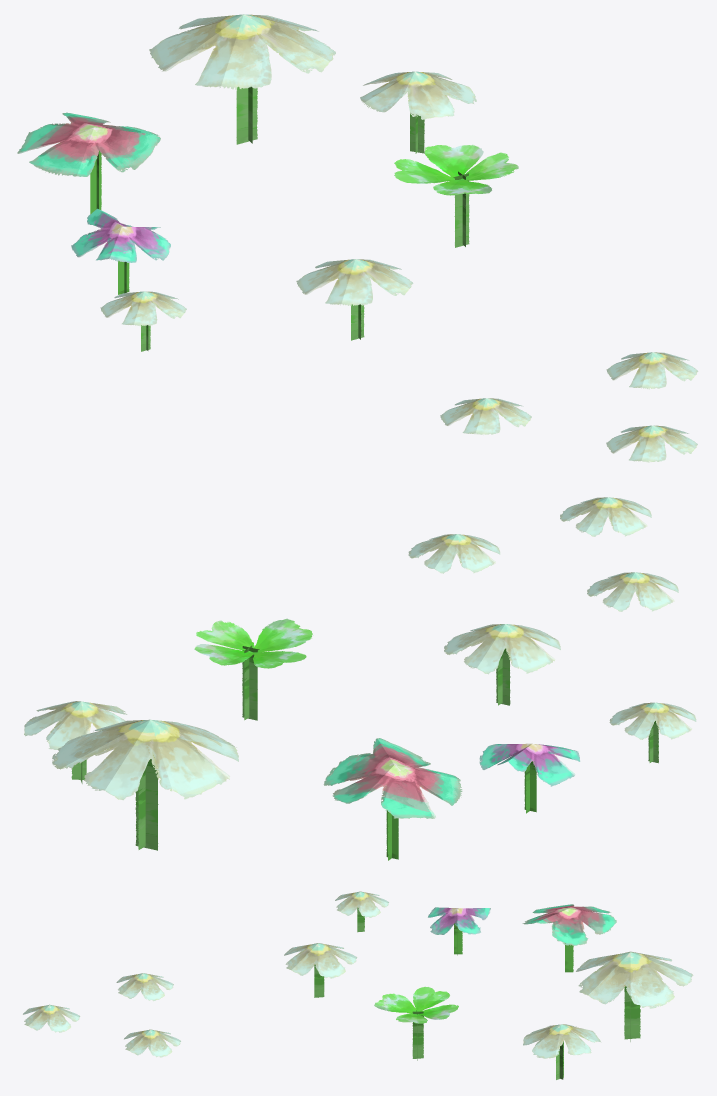
Rendered from T_flower04.fbx.
3 renders of one model, top to bottom at view 1: azimuth 30°, elevation 25°; view 2: azimuth 150°, elevation 25°; view 3: azimuth 270°, elevation 25°, orthographic. The views are drawn at different scales.
Visible parts, largest first — view 1: FLOWERES07.009; view 2: FLOWERES07.009; view 3: FLOWERES07.009.
Boxes of the visible parts, bbox=[...] form: FLOWERES07.009: bbox=[17, 14, 698, 462]; FLOWERES07.009: bbox=[24, 497, 696, 860]; FLOWERES07.009: bbox=[23, 891, 693, 1079].
Bounding box in the file's own units: 310 × 74.16 × 529.
